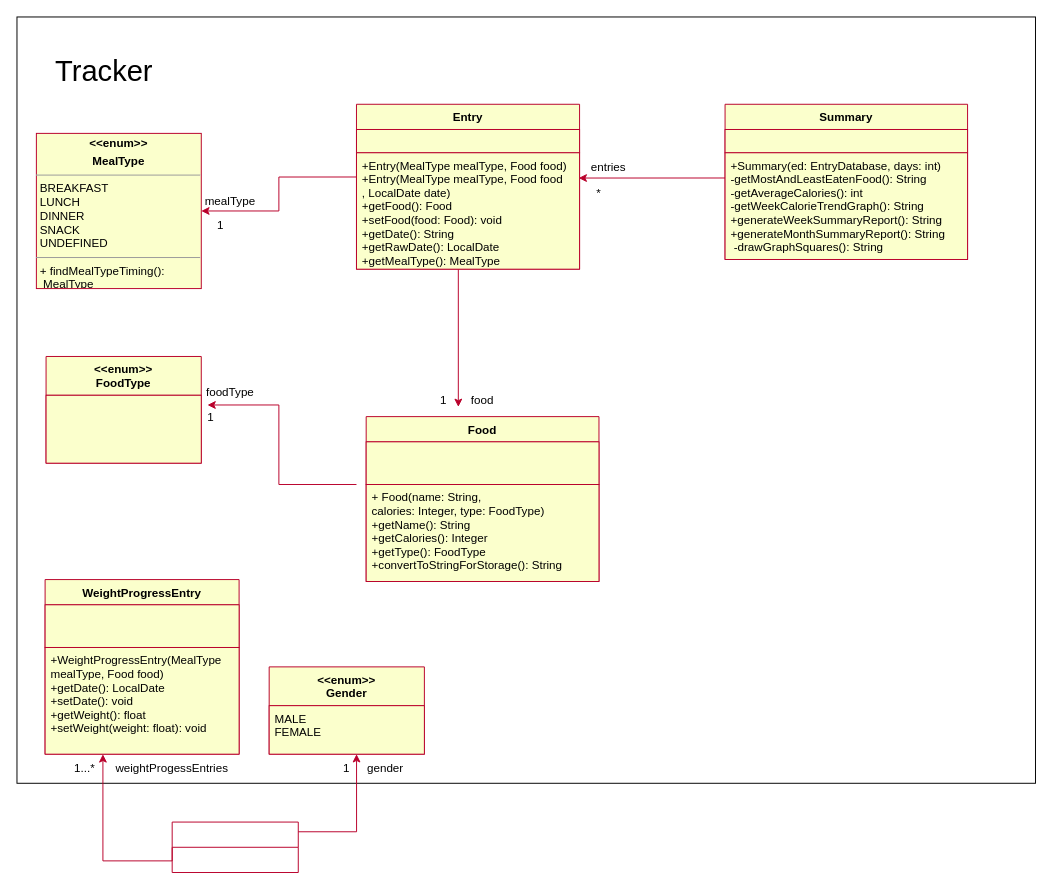
The diagram is 1052 pixels wide and 889 high, and some of its shapes have lost their labels. The shapes that lost their labels are listed below. From the top down, each one's centre as x and y in pixels, then its label:
pixel 468 141: - LocalDate: date
pixel 846 141: - days: int
pixel 123 428: SNACK MEAL BEVERAGE OTHERS
pixel 482 463: -name: String -Integer: calories
pixel 141 625: - date: LocalDate - weight: float
pixel 234 847: :User
